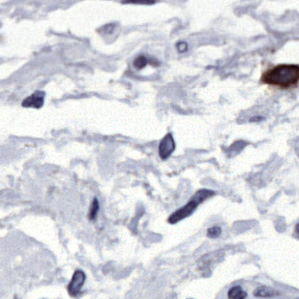Lymphocyte: (261, 63, 299, 88)
